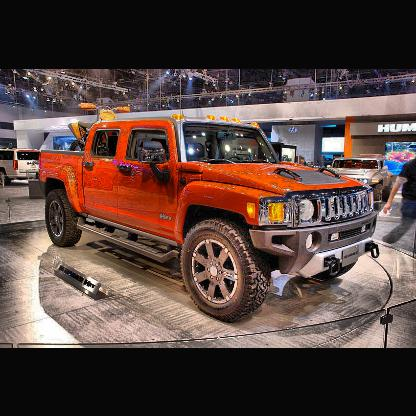HUMMER H3T Crew Cab 2010: (31, 114, 381, 324)
